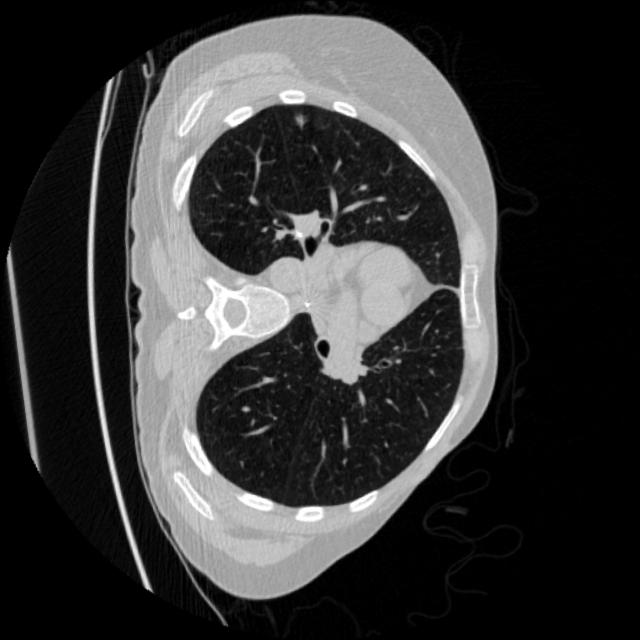nodule: (286, 107, 314, 135)
